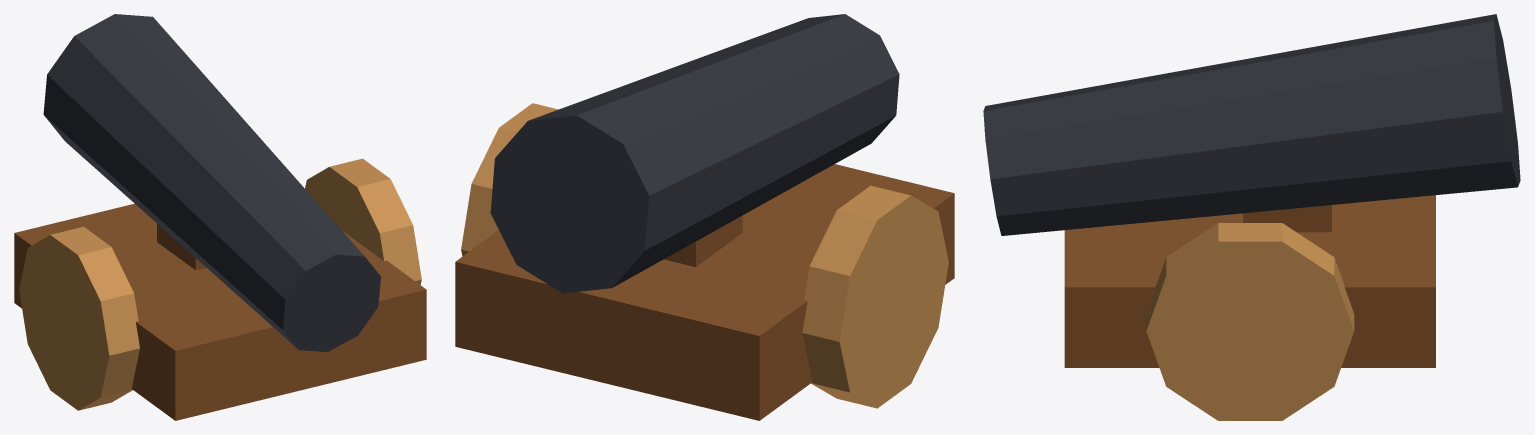
File: cannon.glb
3 views of the same model, side by side, from view 1: azimuth 30°, elevation 25°; view 2: azimuth 150°, elevation 25°; view 3: azimuth 270°, elevation 25° (orthographic). The views are drawn at different scales.
Visible parts, largest first — view 1: cannon; view 2: cannon; view 3: cannon.
Part boxes in pixels (x1,y1,x2,y2): cannon: [14, 14, 426, 420]; cannon: [455, 14, 954, 420]; cannon: [983, 14, 1520, 420].
Size of the model in its own units: 0.56 by 0.4641 by 0.7235.
